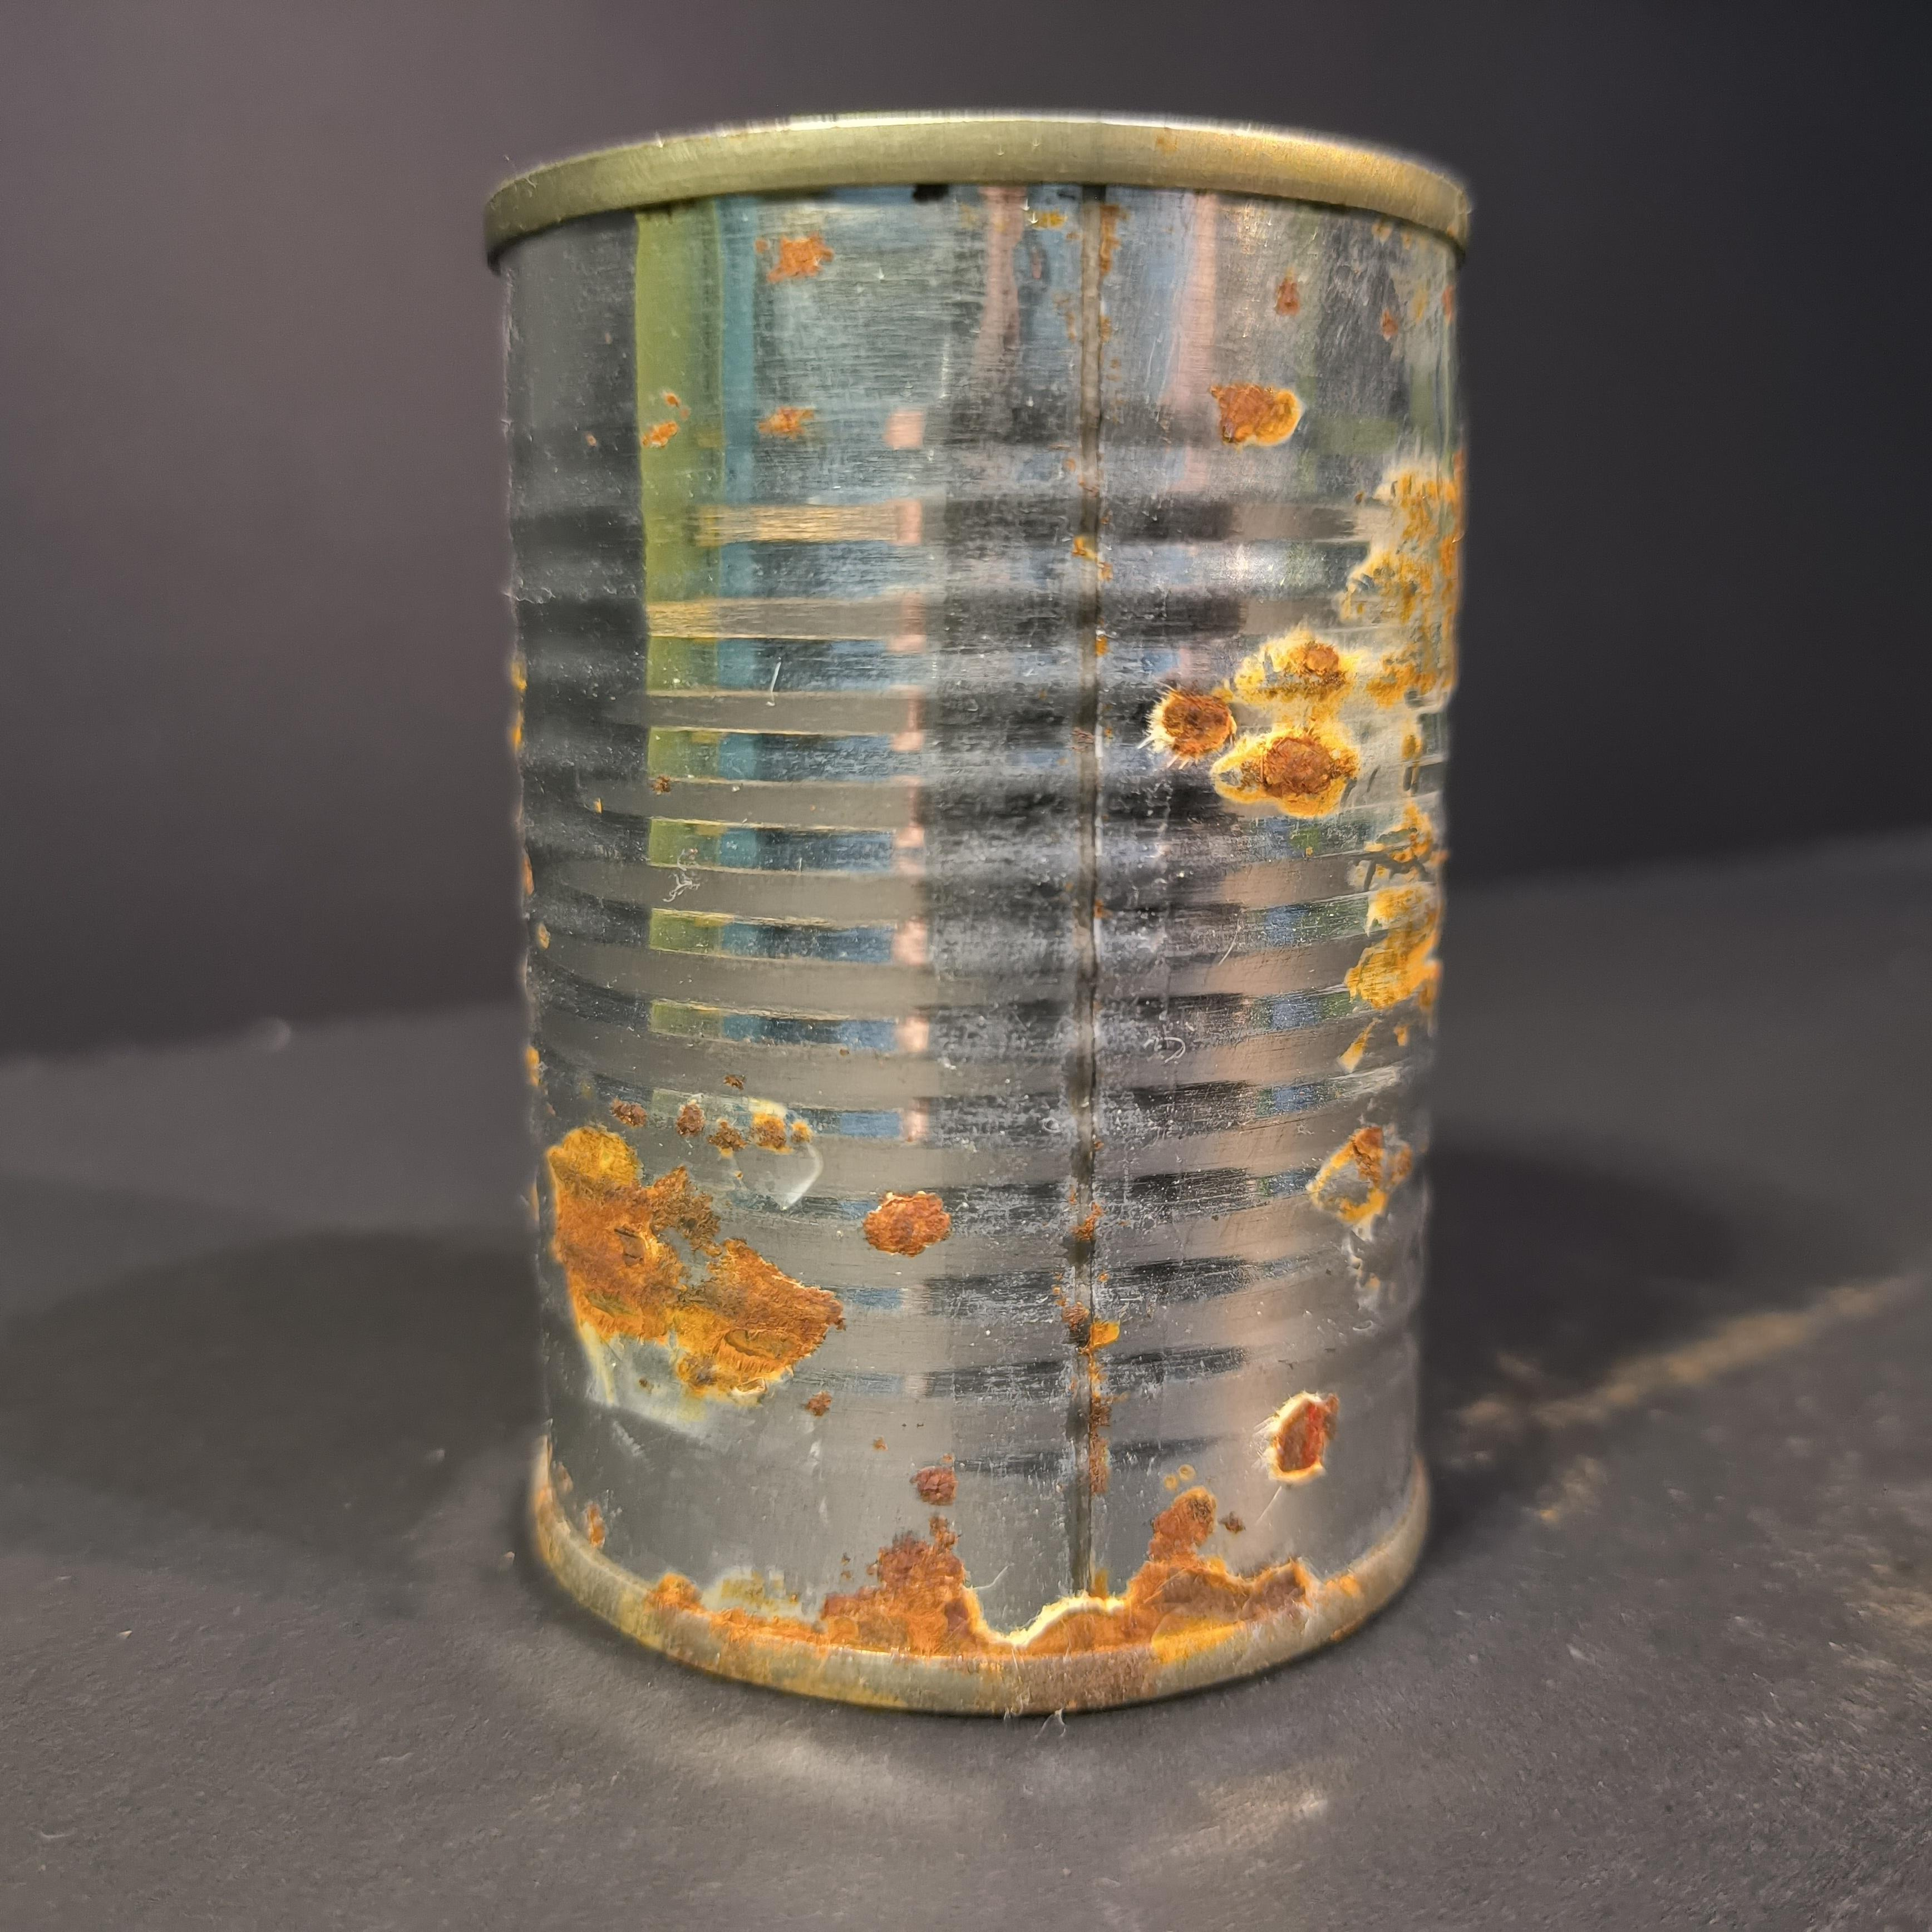Rusted: (465, 94, 1493, 1753)
